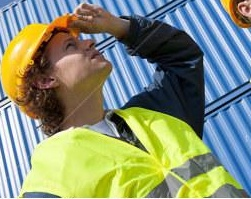hard-hat: (0, 12, 81, 113)
vest: (17, 105, 251, 198)
